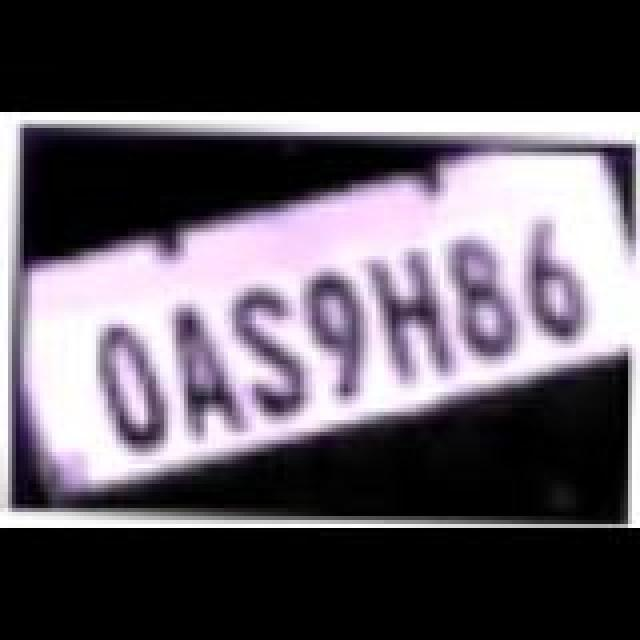6: (500, 212, 604, 348)
8: (430, 232, 538, 368)
9: (292, 268, 396, 404)
A: (152, 304, 256, 448)
H: (358, 248, 474, 392)
O: (80, 318, 184, 458)
S: (218, 284, 326, 428)
